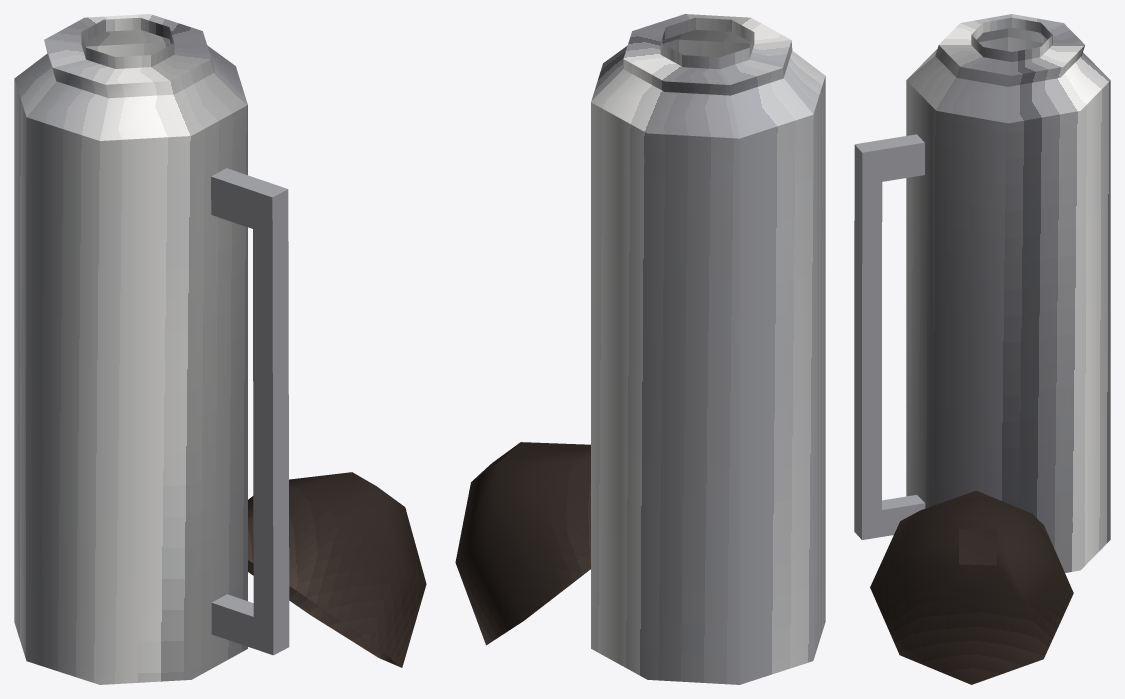
File: CoffeeThermos.fbx
3 renders of one model, left to right at view 1: azimuth 30°, elevation 25°; view 2: azimuth 150°, elevation 25°; view 3: azimuth 270°, elevation 25°, orthographic. The views are drawn at different scales.
Visible parts, largest first — view 1: CoffeeThermos; view 2: CoffeeThermos; view 3: CoffeeThermos.
Part boxes in pixels (x1,y1,x2,y2): CoffeeThermos: (14, 14, 426, 684); CoffeeThermos: (455, 14, 825, 684); CoffeeThermos: (854, 14, 1110, 684).
Bounding box in the file's own units: 31.72 × 55.06 × 22.98.
